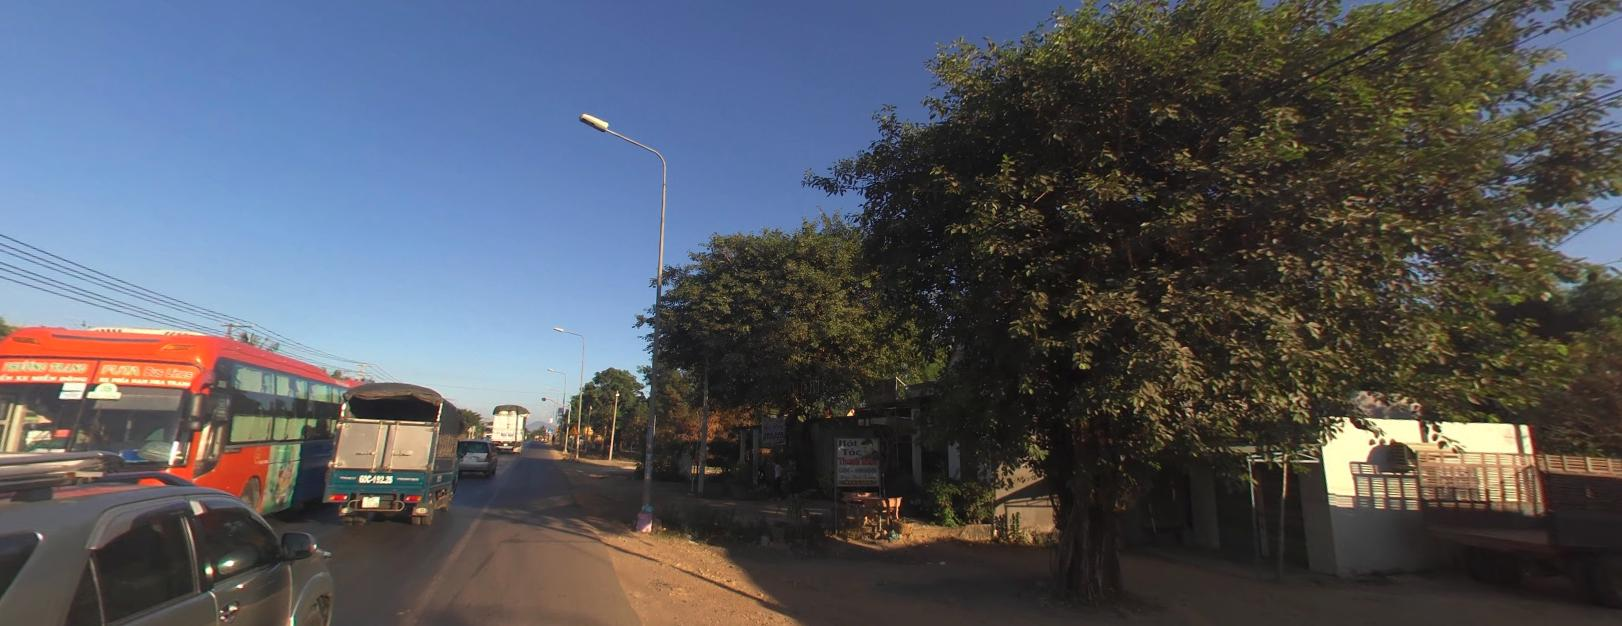Nguy hiem: (567, 424, 579, 433)
